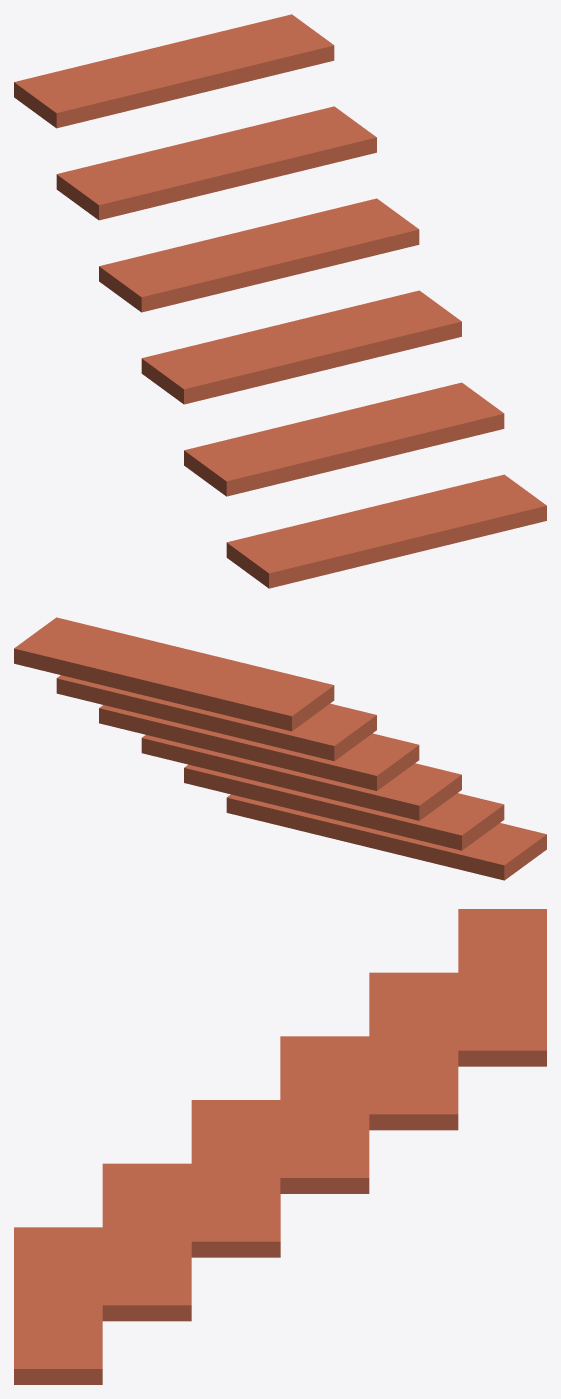
The model's file is Stairs_038.glb.
3 views of the same model, one above another, from view 1: azimuth 30°, elevation 25°; view 2: azimuth 150°, elevation 25°; view 3: azimuth 270°, elevation 25° (orthographic). The views are drawn at different scales.
Visible parts, largest first — view 1: Stairs_038; view 2: Stairs_038; view 3: Stairs_038.
Part boxes in pixels (x1,y1,x2,y2): Stairs_038: (14, 14, 546, 588); Stairs_038: (14, 617, 546, 880); Stairs_038: (14, 909, 546, 1384).
Size of the model in its own units: 1.6 by 1.76 by 2.54.
Materials: 1 (1 with a texture image).
